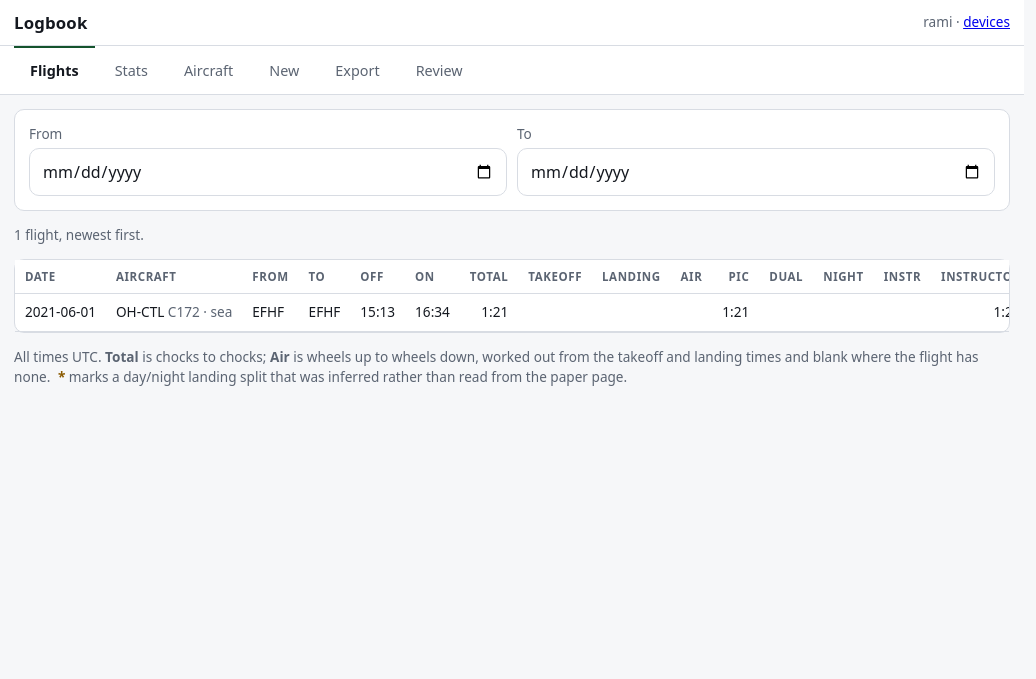
Scenario: the aircraft picker › will not add an aeroplane with no type
Click the link "New".
click(284, 71)  # box [269, 61, 299, 80]
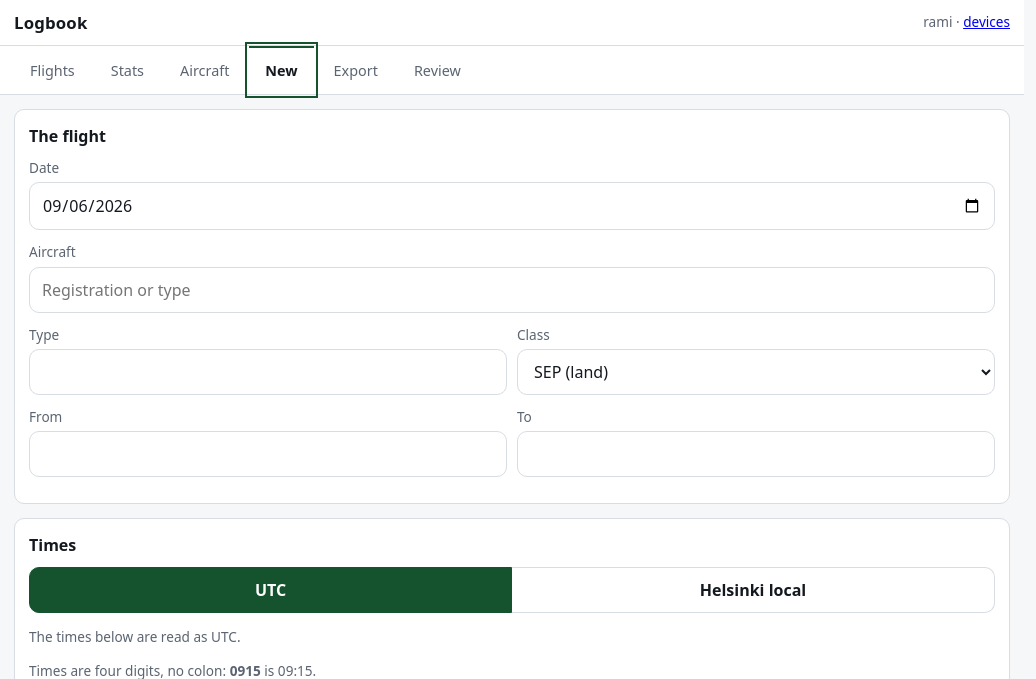
Type "OH-ZZZ" into the dropdown labelled "Aircraft".
click(512, 290); type("OH-ZZZ")  # box [29, 267, 995, 313]
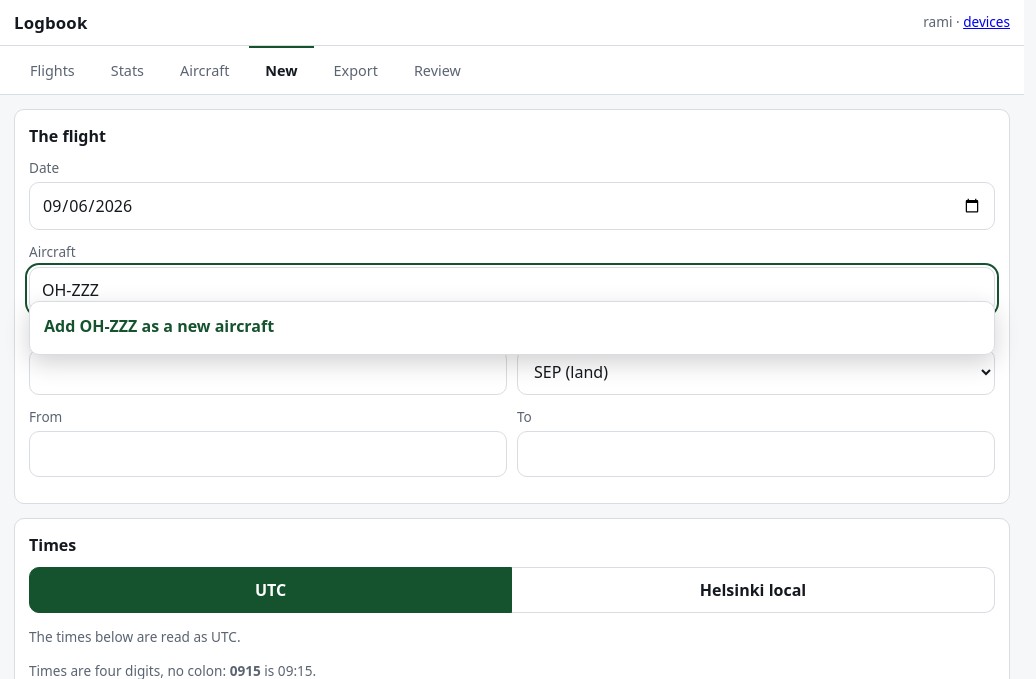
Click the option "Add OH-ZZZ as a new aircraft".
click(62, 326)  # box [34, 306, 990, 350]
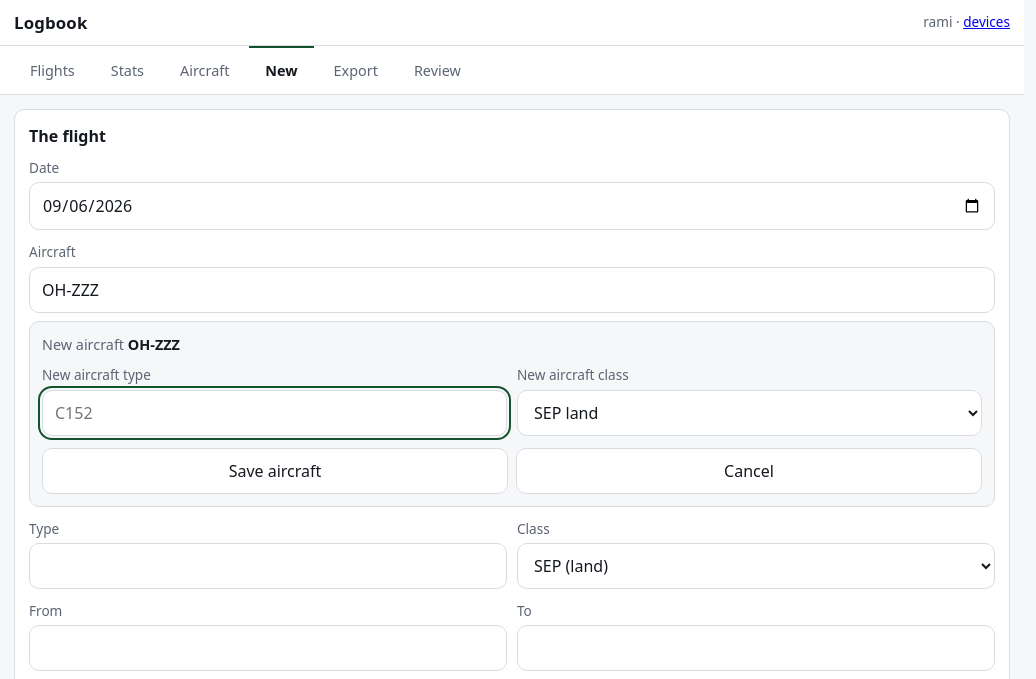
Click the button "Save aircraft".
click(275, 471)  # box [42, 448, 508, 494]
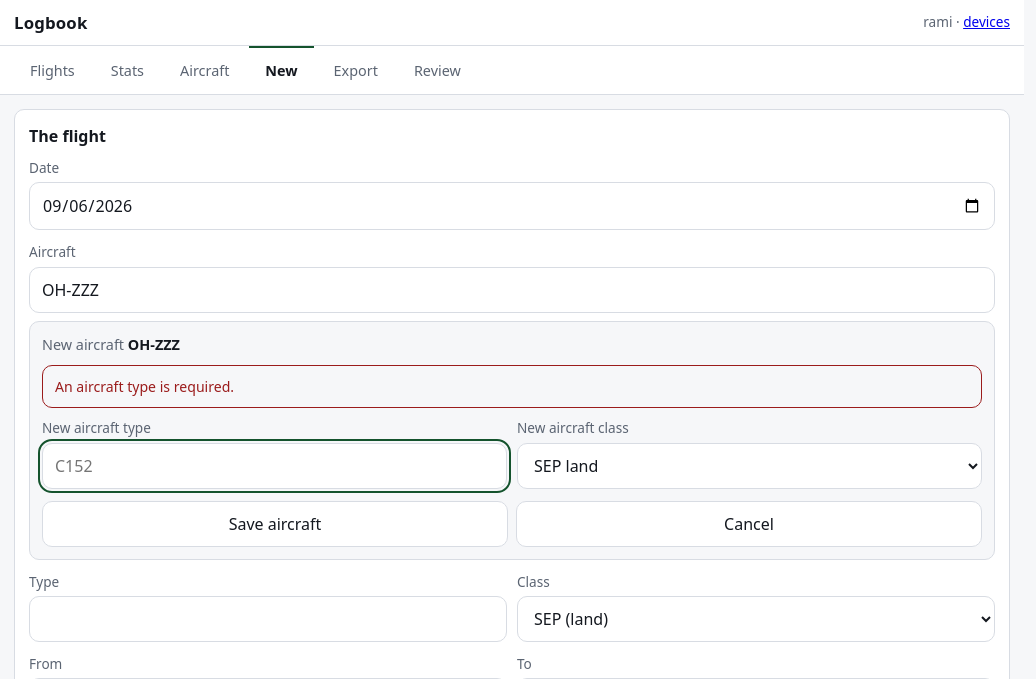
Expected: the text "An aircraft type is required." is shown, [42, 365, 982, 408]
